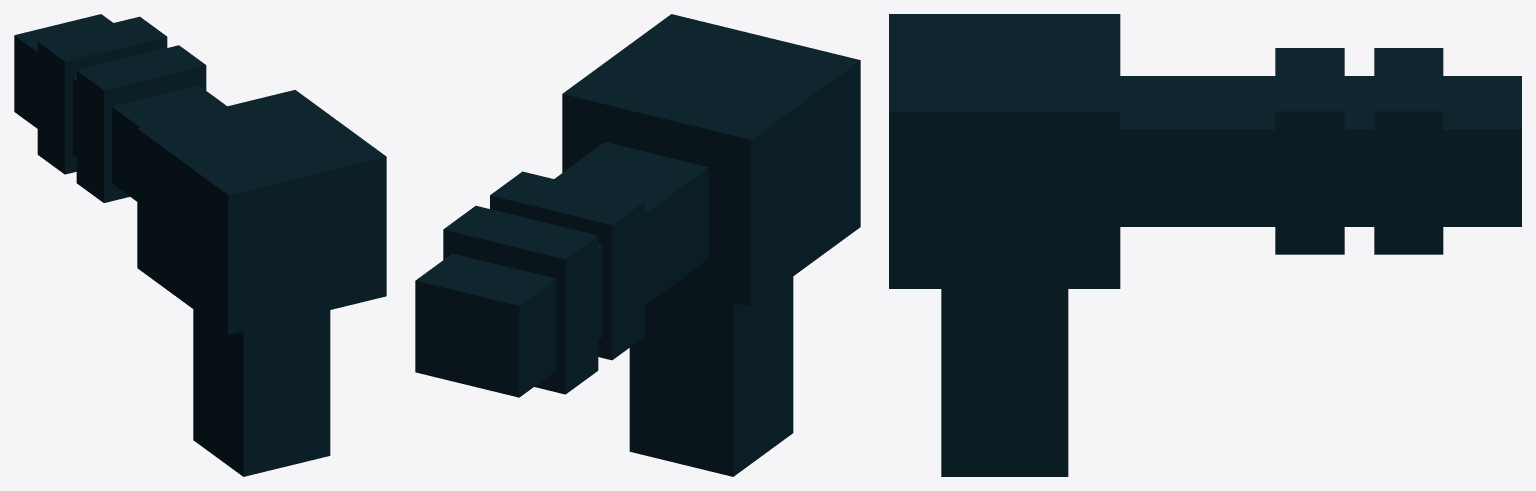
File: freeze_ray.glb
3 views of the same model, side by side, from view 1: azimuth 30°, elevation 25°; view 2: azimuth 150°, elevation 25°; view 3: azimuth 270°, elevation 25° (orthographic). The views are drawn at different scales.
Visible parts, largest first — view 1: Cube; view 2: Cube; view 3: Cube.
Boxes of the visible parts, x1,y1,x2,y2 form: Cube: [14, 14, 386, 476]; Cube: [415, 14, 860, 476]; Cube: [889, 14, 1521, 476].
Size of the model in its own units: 0.7378 by 1.36 by 2.02.
